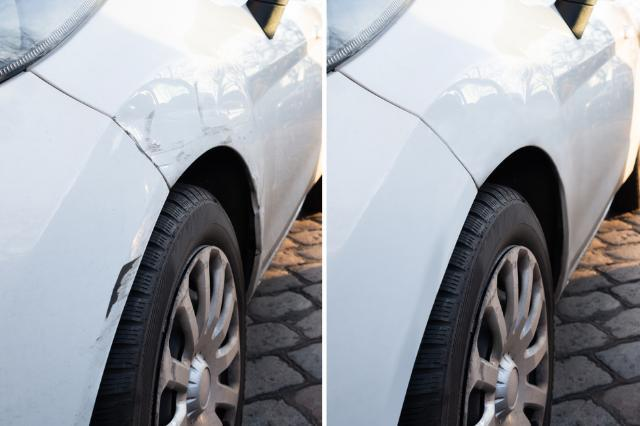Fender: (38, 167, 151, 346)
